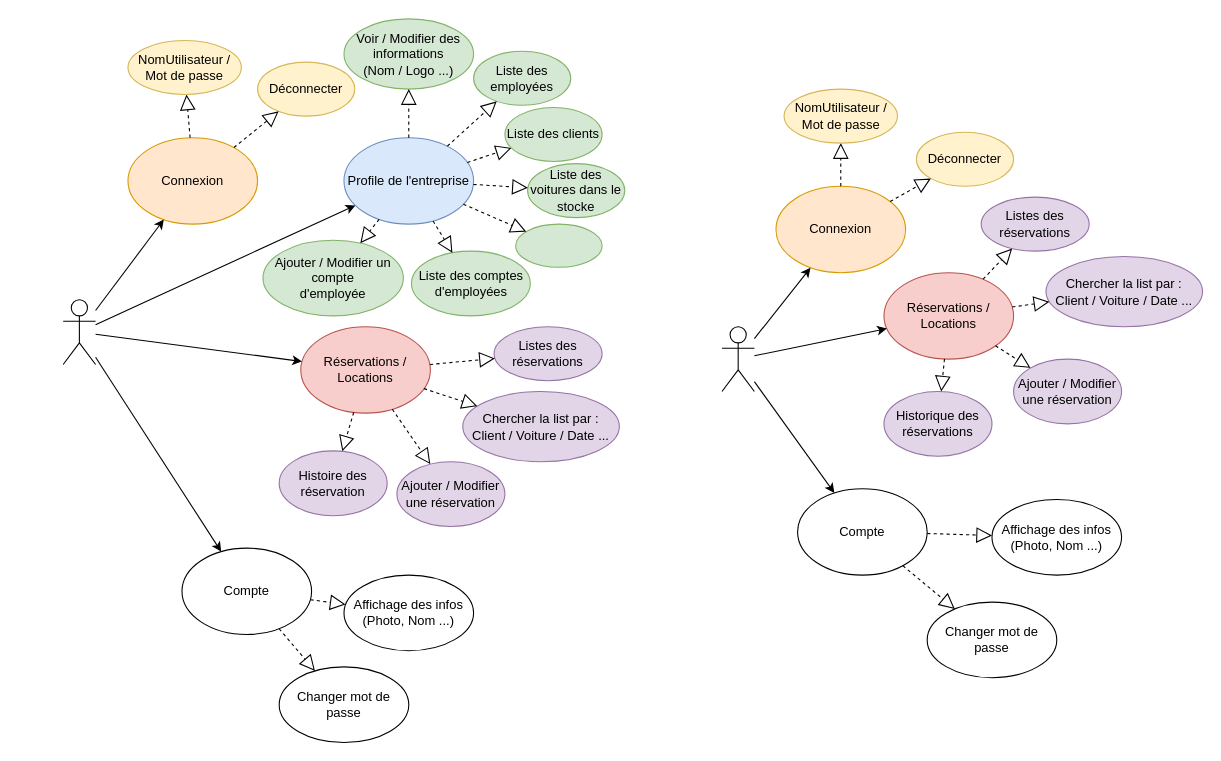
Image size: 1221x761. Some labels were removed from this diagram. Here are the shapes that lost their labels. From the top down, the box of each, then its label:
(515, 223, 602, 267): Promotions
(62, 299, 96, 364): Admin de l'entreprise
(721, 326, 754, 392): Employée
